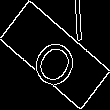O_NE: (25, 22, 85, 88)
